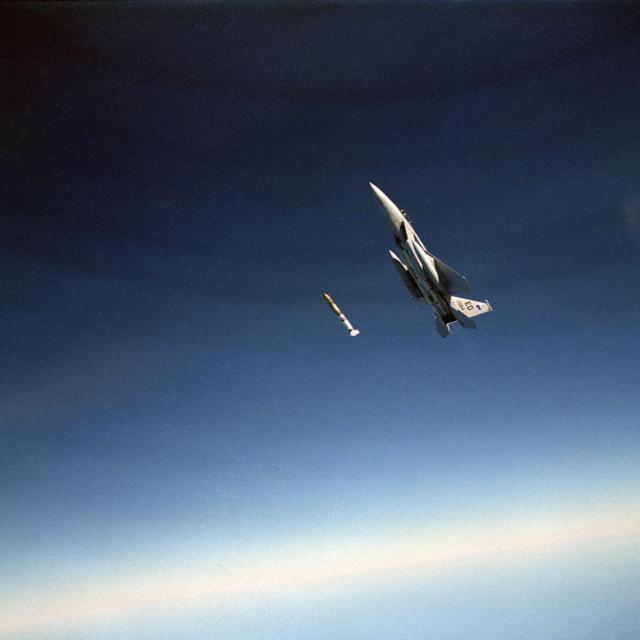MIL_Plane: (368, 182, 494, 338)
